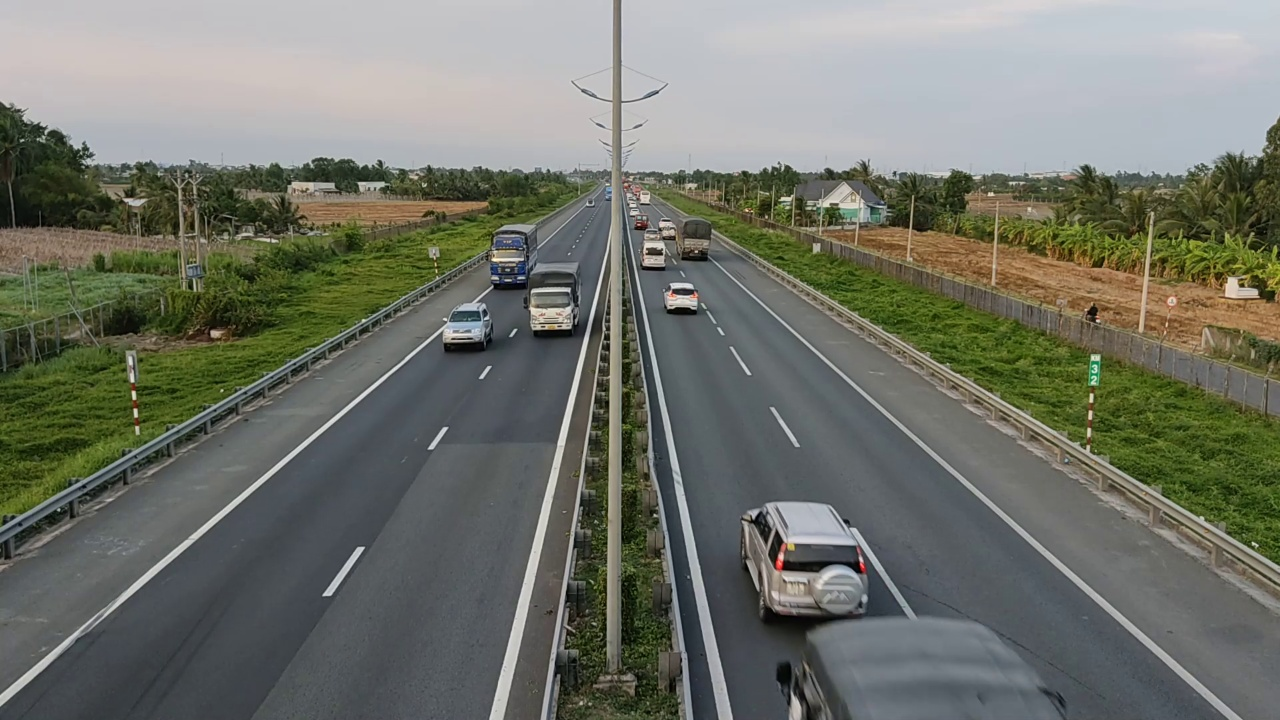bus: (489, 223, 539, 287)
car: (775, 614, 1066, 718), (739, 501, 869, 621), (442, 302, 495, 352), (662, 281, 700, 313), (641, 237, 668, 269)
truck: (525, 257, 579, 338), (675, 217, 713, 260)
